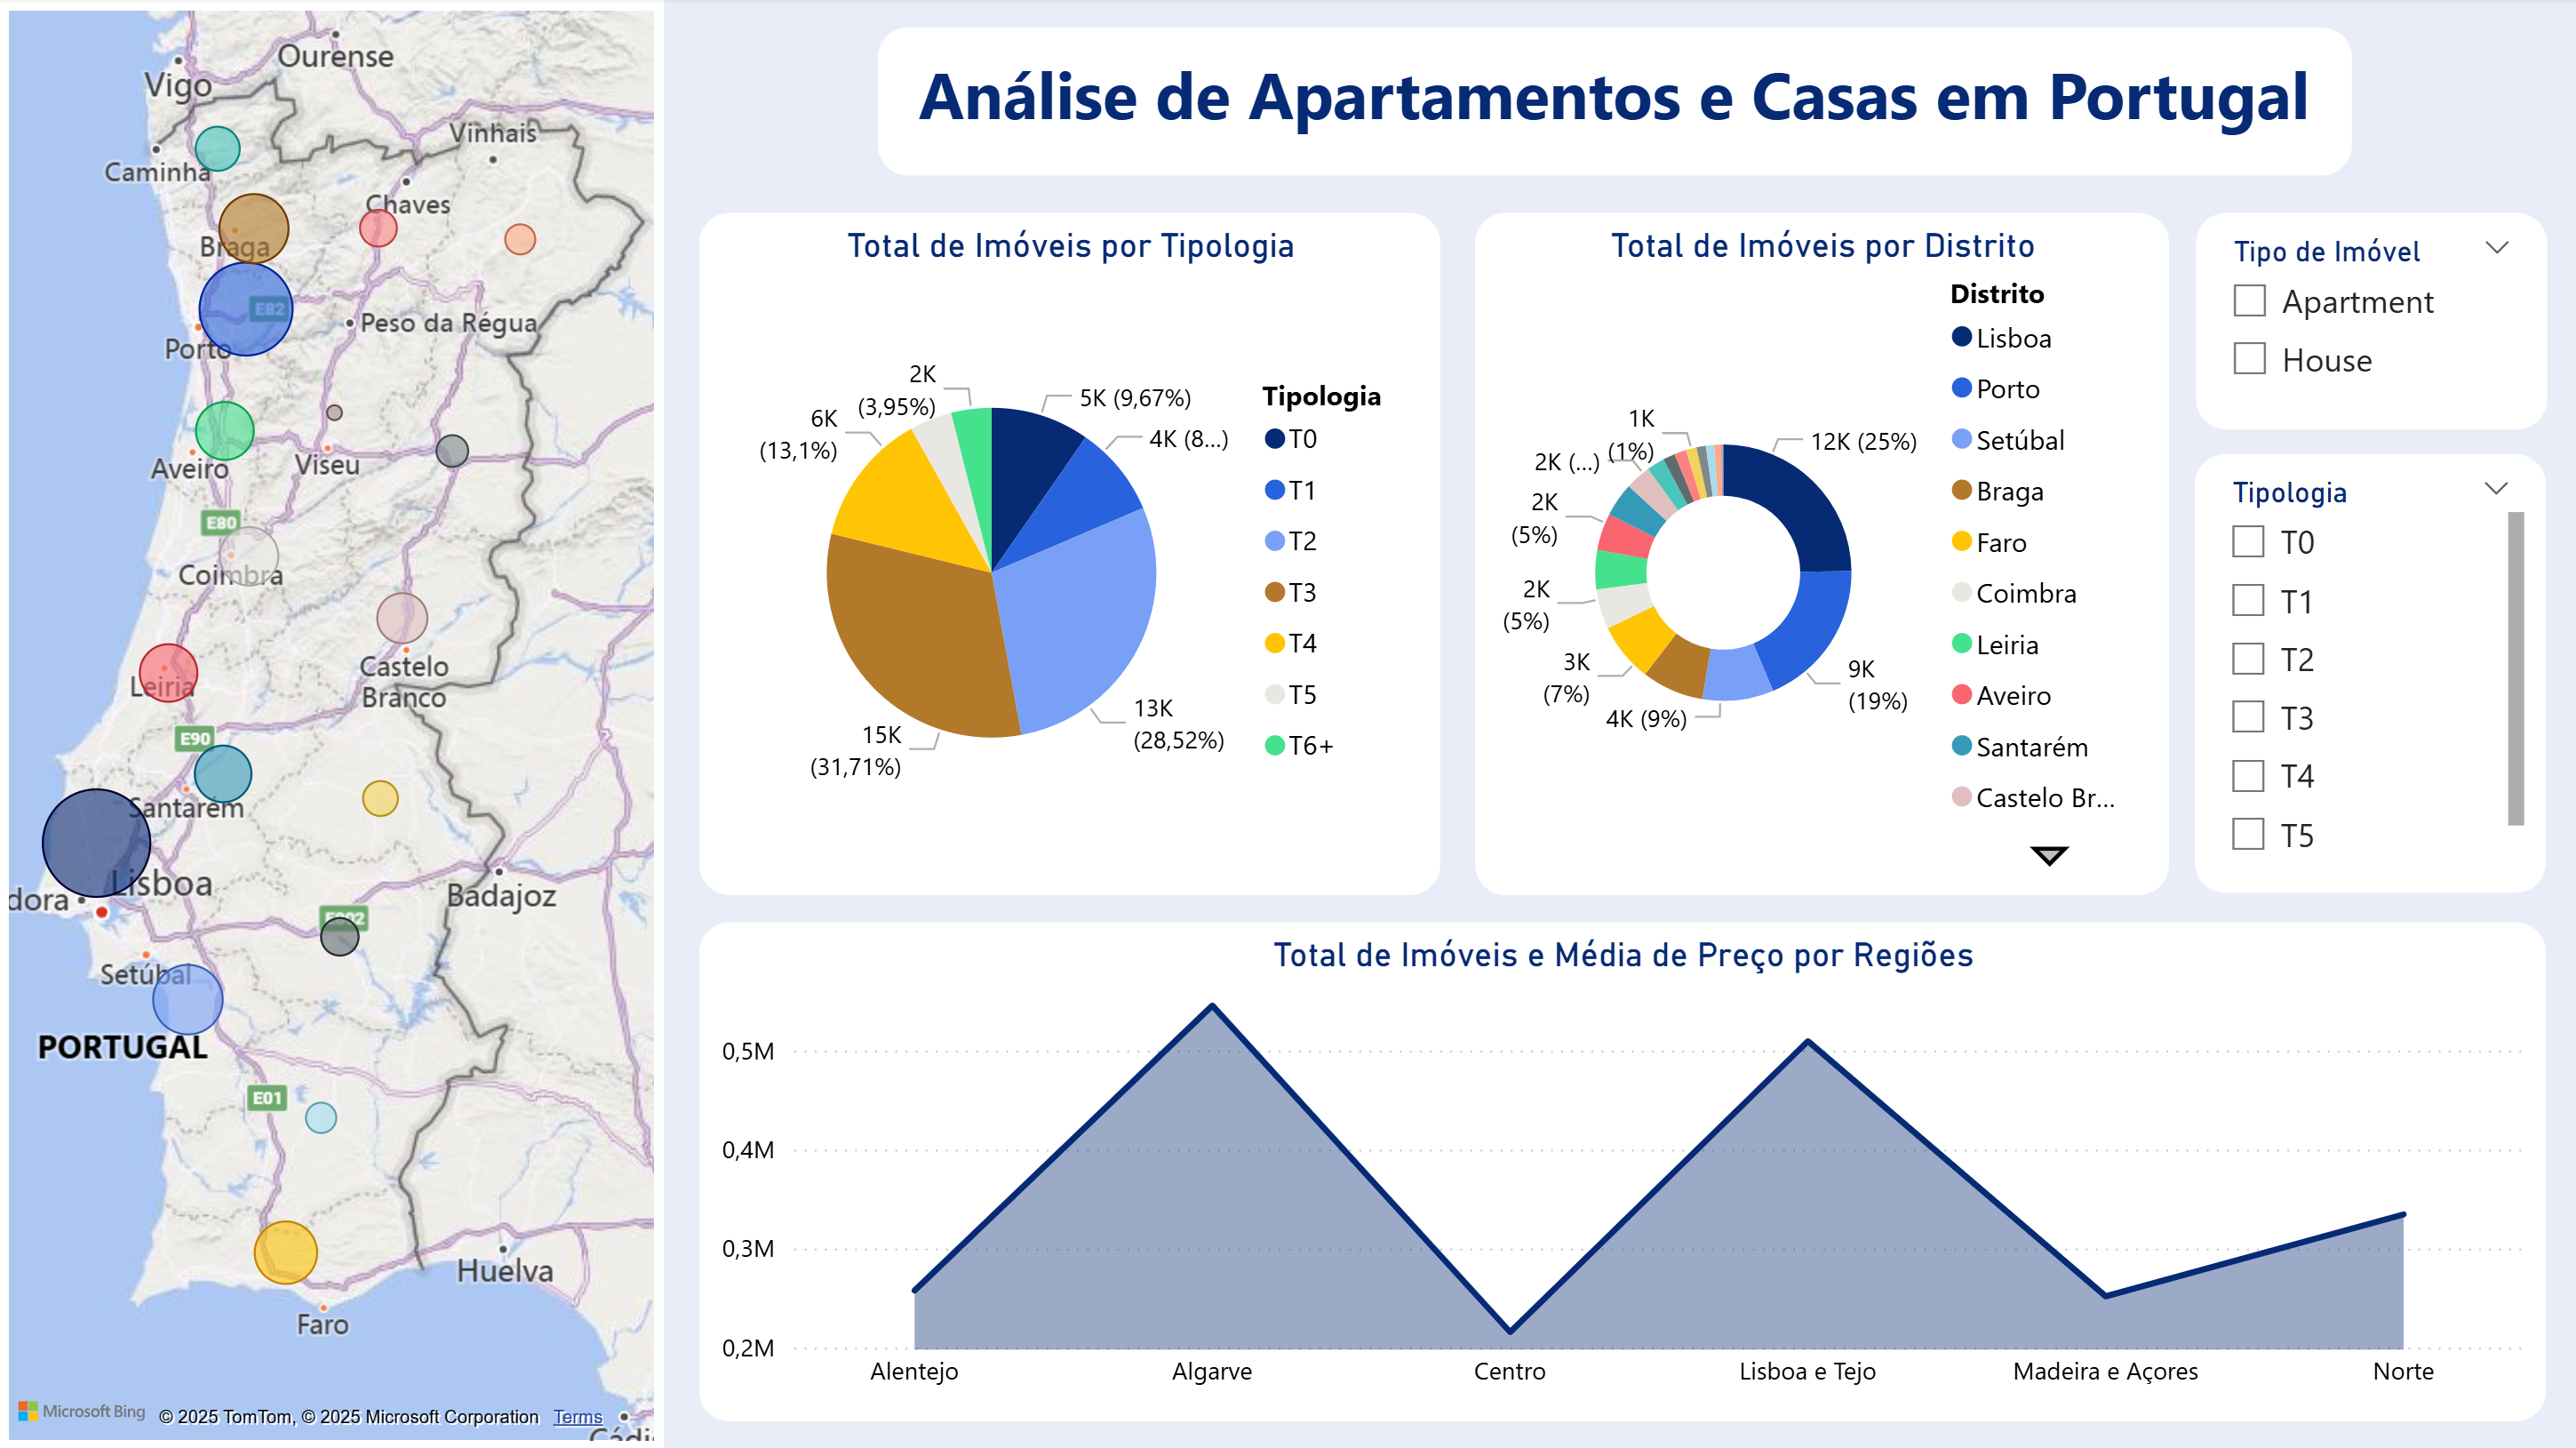

The page's visual inventory and layout, read from the dashboard file:
{"tool":"powerbi","page":{"name":"Dashboard 3","canvas":[1280,720],"ordinal":2},"visuals":[{"type":"map","fields":{"Category":["Analise 2.District"],"Series":["Analise 2.District"],"Size":["Analise 2.Qtd_Vendas"]},"box":[0,0.8,329.7,719.2],"z":0},{"type":"pieChart","title":"Total de Imóveis por Tipologia","fields":{"Category":["Analise 3.Tipologia"],"Y":["Analise 3.Qtd_Venda"]},"box":[347.8,106.1,367.4,337.9],"z":1000},{"type":"slicer","fields":{"Values":["Analise 3.Type_Agregado"]},"box":[1089.4,106.1,173.9,107.1],"z":2000},{"type":"areaChart","title":"Total de Imóveis e Média de Preço por Regiões","fields":{"Category":["Analise 3.Regiões"],"Y":["Avg(Analise 3.Price)"]},"box":[347.6,458,915.2,247.1],"z":3000},{"type":"slicer","fields":{"Values":["Analise 3.Tipologia"]},"box":[1089.1,226.1,174.2,217.5],"z":4000},{"type":"donutChart","title":"Total de Imóveis por Distrito","fields":{"Category":["Analise 3.District"],"Y":["Analise 3.Qtd_Venda"]},"box":[731.8,106.1,343.8,337.9],"z":6000},{"type":"textbox","box":[436.3,14.5,730.5,73.3],"z":8000}]}

Visuals, with their boxes in screenshot pixels (x1, y1, x2, y2), scaled from the page's 1280x720 canvas onto the 2576x1448 screenshot:
map - Analise 2.District x Analise 2.District: box(0, 2, 664, 1447)
"Total de Imóveis por Tipologia" pieChart: box(700, 213, 1440, 893)
slicer - Analise 3.Type_Agregado: box(2192, 213, 2542, 428)
"Total de Imóveis e Média de Preço por Regiões" areaChart: box(699, 921, 2541, 1418)
slicer - Analise 3.Tipologia: box(2192, 455, 2542, 892)
"Total de Imóveis por Distrito" donutChart: box(1472, 213, 2165, 893)
textbox: box(878, 29, 2349, 177)
